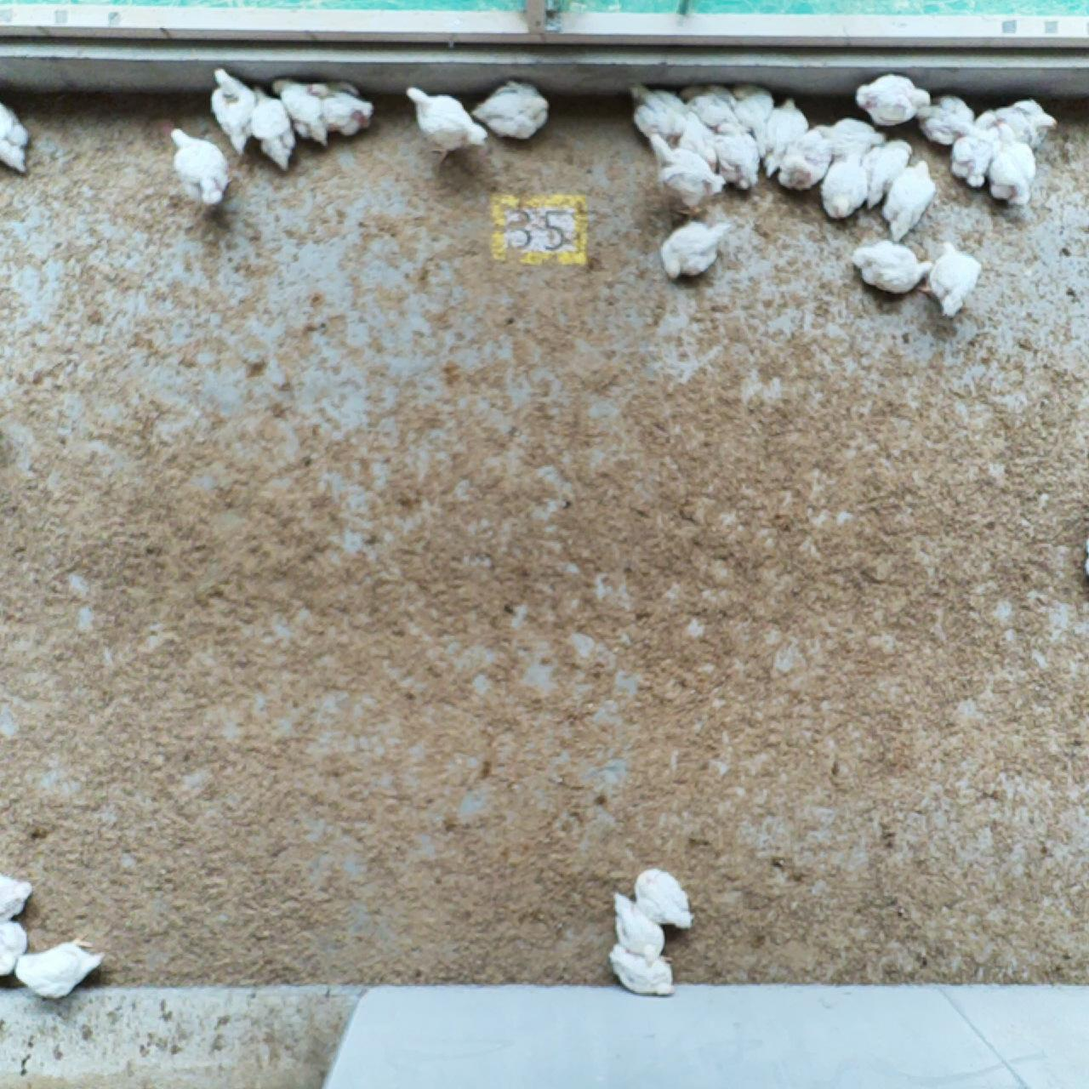chicken: (645, 126, 726, 219), (400, 81, 489, 163), (14, 934, 108, 1000), (167, 127, 237, 212), (473, 74, 554, 145), (652, 216, 735, 284), (917, 238, 985, 316), (204, 63, 263, 152), (265, 71, 332, 148), (630, 859, 701, 931), (987, 117, 1041, 211), (241, 77, 294, 172), (610, 884, 668, 970), (847, 235, 933, 293), (603, 937, 677, 1004), (882, 156, 940, 240), (622, 78, 695, 142), (773, 126, 833, 200), (856, 71, 933, 128), (985, 98, 1062, 154), (309, 74, 373, 140), (948, 122, 1004, 195), (760, 94, 808, 178), (858, 136, 911, 212), (711, 117, 763, 194), (679, 78, 748, 136), (916, 93, 981, 151), (731, 81, 778, 161), (819, 154, 868, 228), (813, 113, 888, 158), (0, 101, 36, 177), (0, 863, 37, 922), (0, 921, 37, 974)
